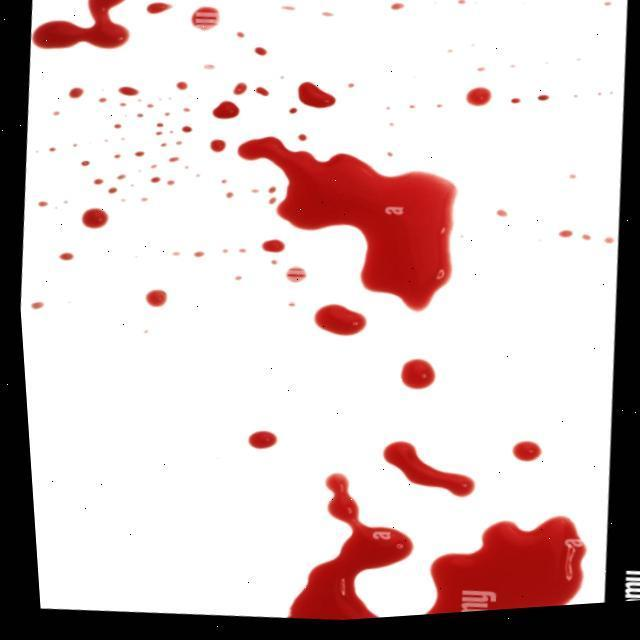knife: (234, 139, 453, 316), (286, 472, 416, 620), (423, 514, 589, 612), (384, 440, 476, 496), (30, 0, 128, 49), (311, 306, 364, 338), (290, 80, 335, 108), (399, 360, 435, 391), (188, 4, 222, 32), (210, 99, 243, 120), (510, 440, 540, 461), (80, 209, 107, 230), (247, 431, 276, 449), (467, 86, 492, 105), (144, 289, 166, 307), (285, 267, 308, 282), (256, 242, 280, 255), (145, 4, 171, 15), (116, 86, 139, 98), (233, 81, 247, 96), (209, 140, 225, 153), (255, 85, 270, 98), (253, 45, 268, 57), (68, 87, 84, 98), (58, 252, 75, 261), (558, 229, 573, 238), (180, 124, 194, 133), (177, 79, 187, 91), (296, 133, 308, 143), (151, 176, 162, 185), (93, 177, 103, 184), (108, 187, 118, 194), (134, 150, 145, 156), (538, 94, 548, 100)
